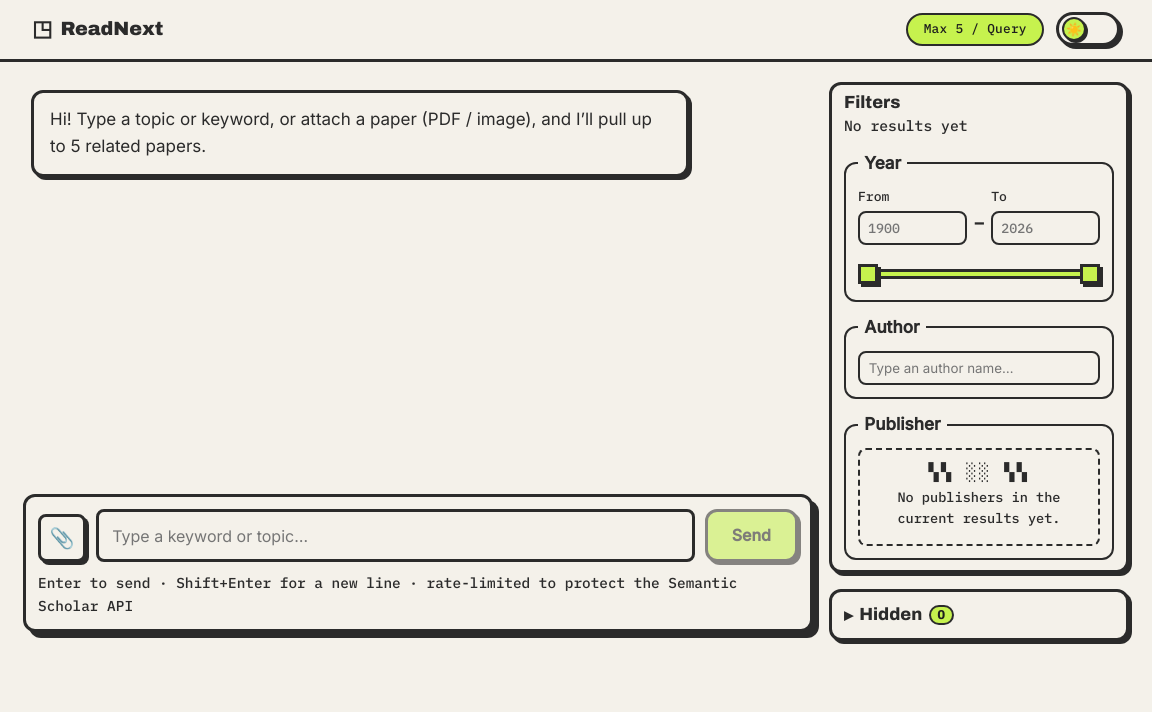
Scenario: chat integration: filters drive what the chat operates on › renders and attributes only the filtered subset when a publisher filter is active
Send a keyword query.
Type "deep learning" into the text box with placeholder "Type a keyword or topic…" at {"x": 395, "y": 536}, box [96,509,695,562]
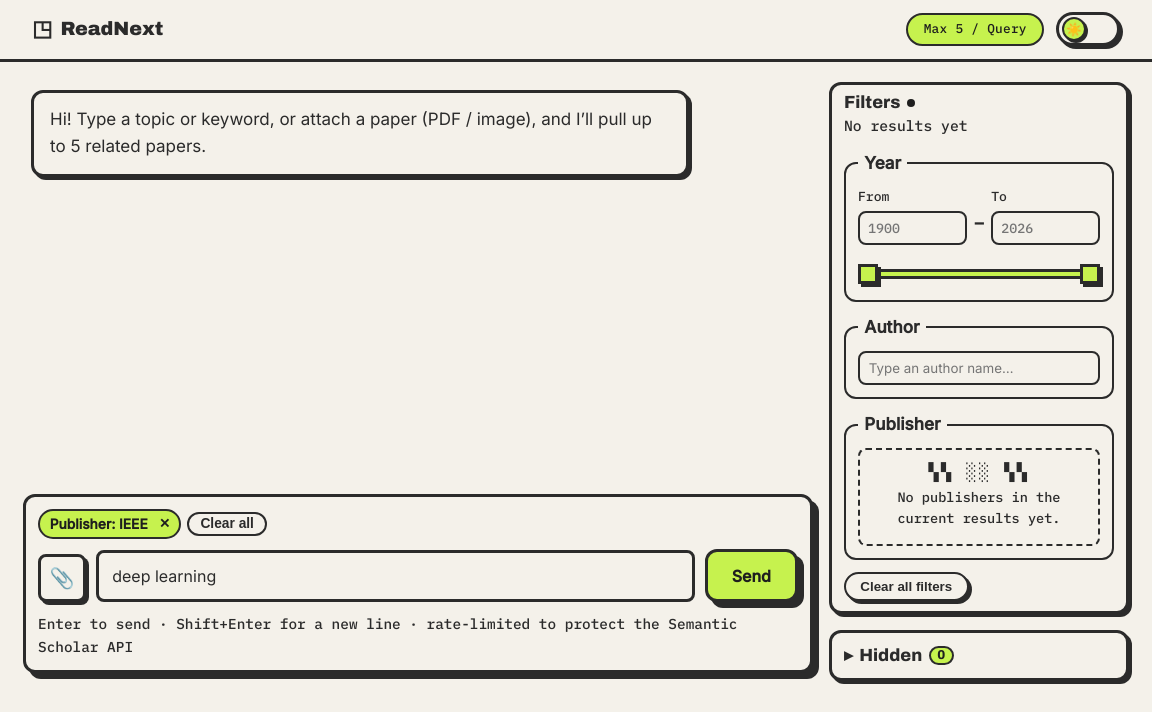
Click the button "Send" at {"x": 751, "y": 576}, box [705,549,798,602]
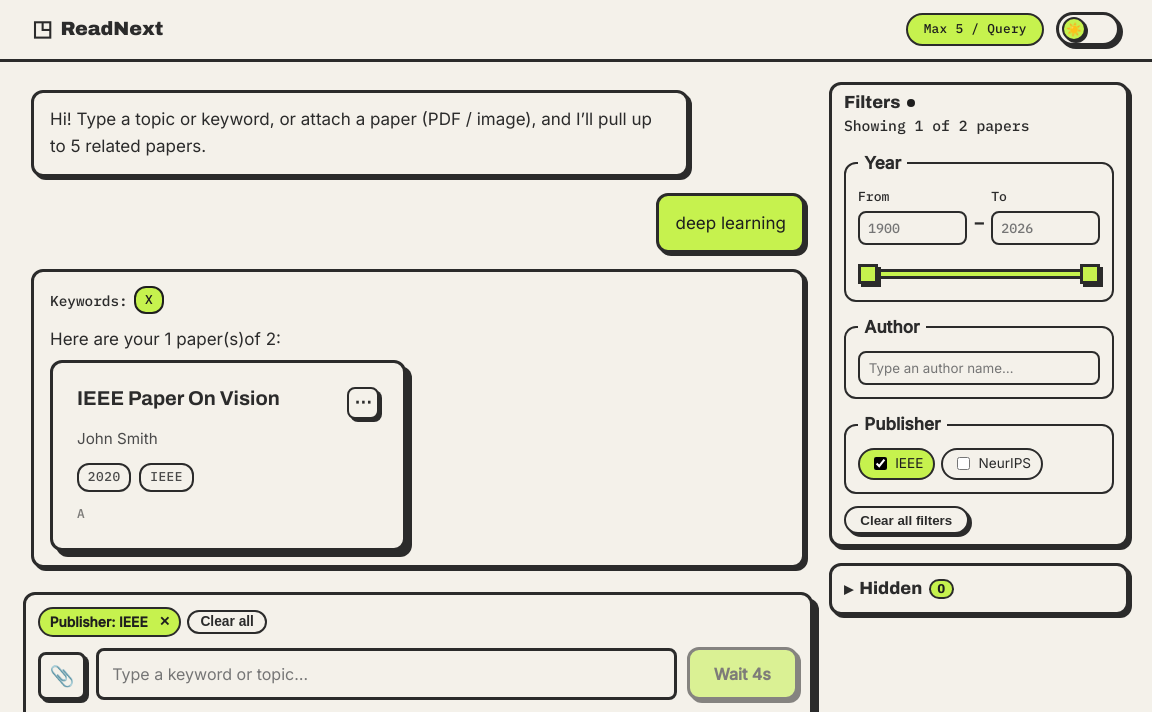
Now the heading "IEEE Paper On Vision" is shown, box [77,387,280,409]
Now the message reads "Showing 1 of 2 papers", box [844,114,1030,138]
